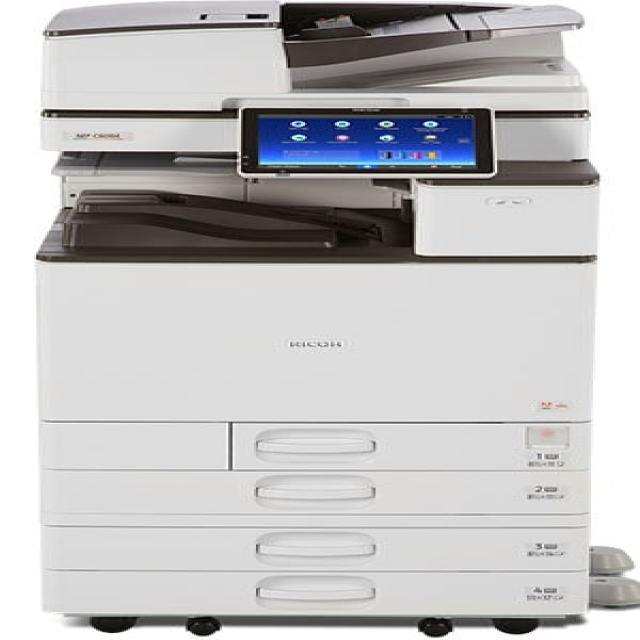printer: (31, 0, 631, 635)
